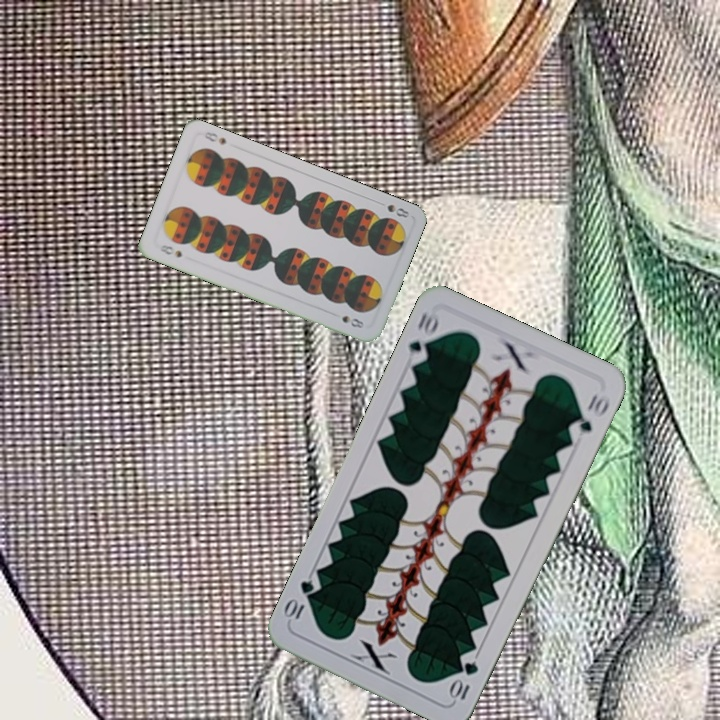G10: (403, 306, 441, 367), (446, 656, 481, 704)
S8: (373, 197, 412, 221), (155, 241, 184, 260)
